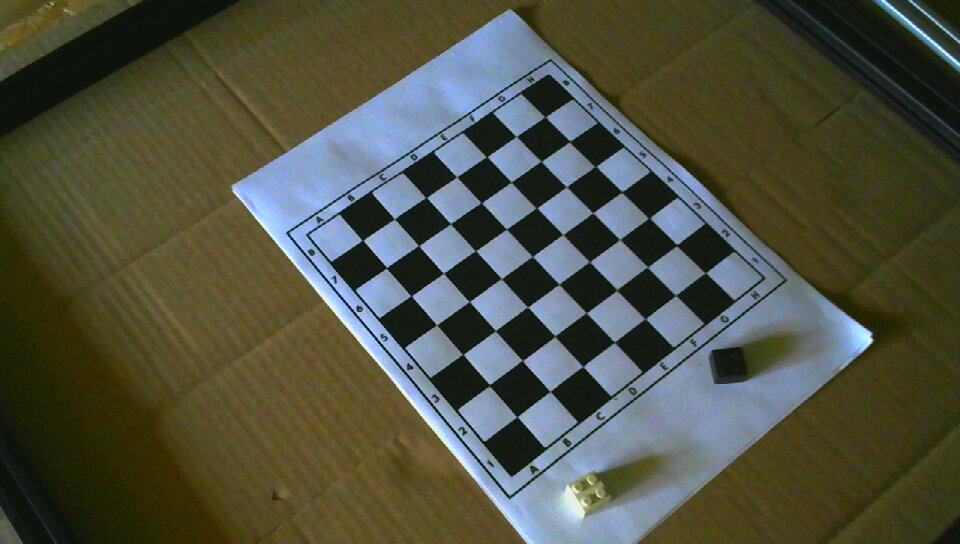bp: (708, 346, 748, 385)
wp: (564, 470, 613, 520)
